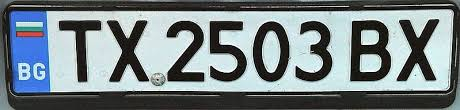registration_plate: (3, 1, 457, 108)
